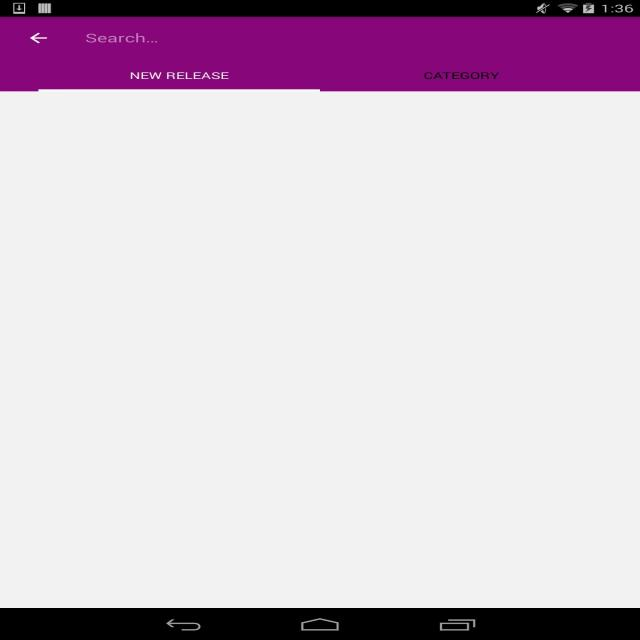button: (340, 64, 596, 93), (40, 64, 320, 90), (21, 26, 58, 48)
field: (65, 25, 590, 50)
label: (76, 28, 164, 46)
